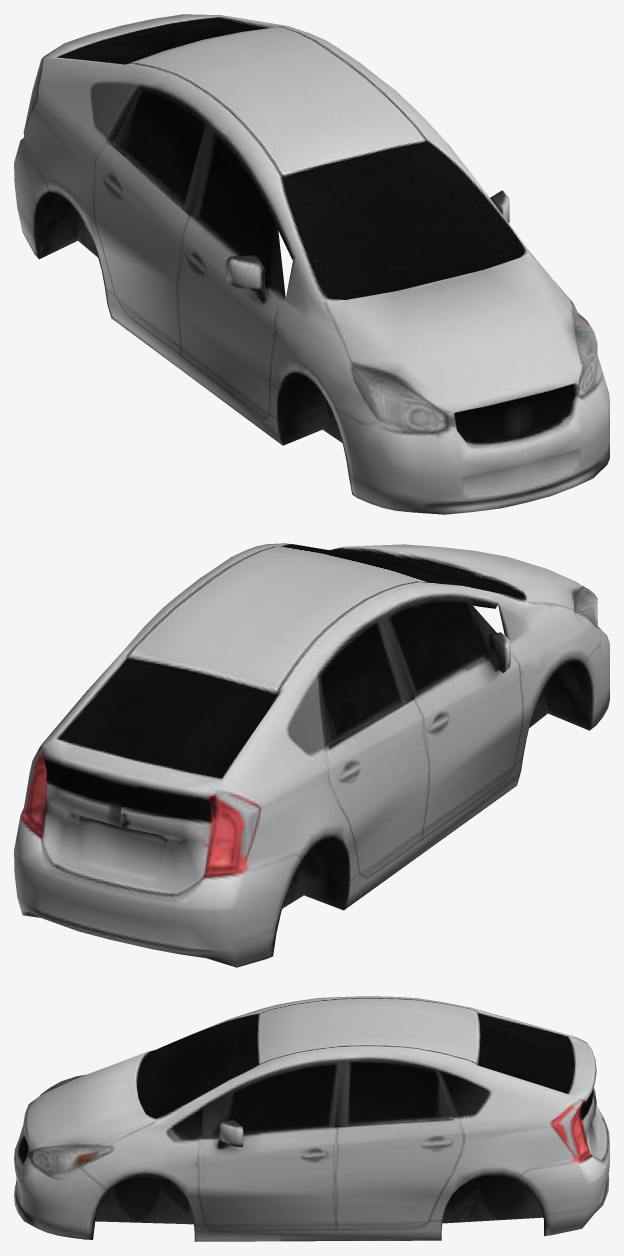
The model's file is mhybrid.glb.
The picture shows the model from 3 angles, top to bottom: view 1: azimuth 30°, elevation 25°; view 2: azimuth 150°, elevation 25°; view 3: azimuth 270°, elevation 25°; orthographic projection. The views are drawn at different scales.
Visible parts, largest first — view 1: mhybrid; view 2: mhybrid; view 3: mhybrid.
Boxes of the visible parts, x1,y1,x2,y2 form: mhybrid: [14, 14, 609, 514]; mhybrid: [14, 543, 609, 967]; mhybrid: [14, 996, 609, 1241].
Bounding box in the file's own units: 1.76 × 1.51 × 4.54.
Materials: 1 (1 with a texture image).
